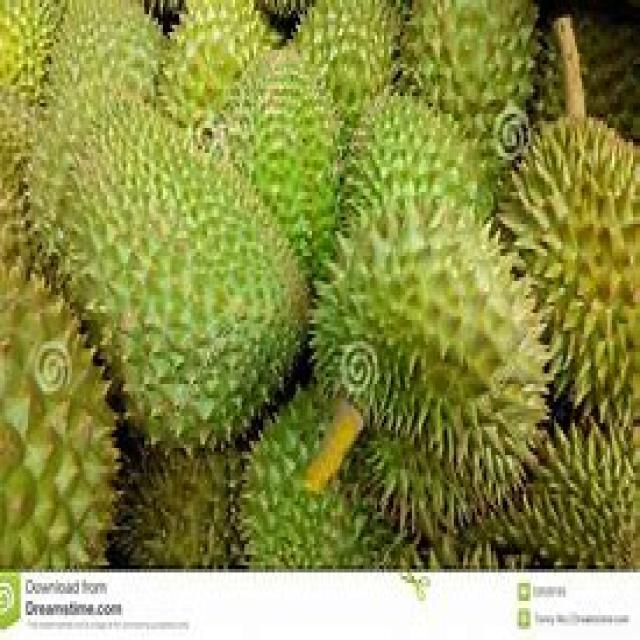immature: (25, 71, 313, 461), (284, 192, 553, 523)
